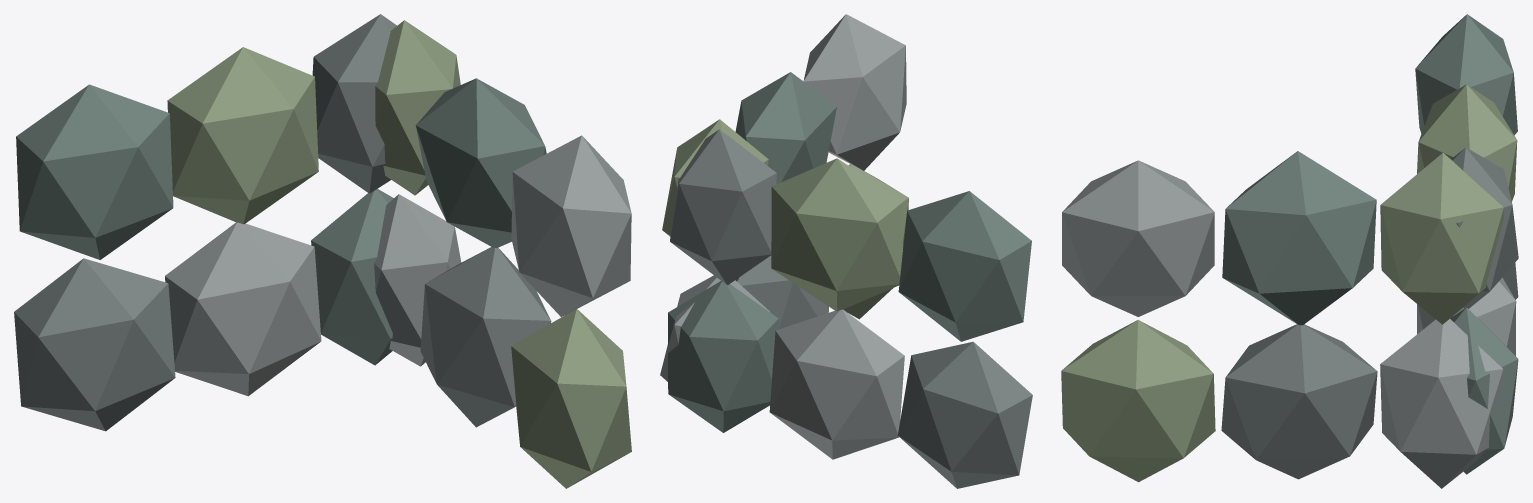
Rendered from wall_corner_inner_4x4x3.glb.
3 views of the same model, side by side, from view 1: azimuth 30°, elevation 25°; view 2: azimuth 150°, elevation 25°; view 3: azimuth 270°, elevation 25° (orthographic). The views are drawn at different scales.
Parts seen in each view (by area): view 1: cave_wall_inner_01, cave_wall_inner_07, cave_wall_inner_02, cave_wall_inner_08, cave_wall_inner_10, cave_wall_inner_04, cave_wall_inner_05, cave_wall_inner_11, cave_wall_inner_09, cave_wall_inner_03, cave_wall_inner_12, cave_wall_inner_06; view 2: cave_wall_inner_08, cave_wall_inner_02, cave_wall_inner_07, cave_wall_inner_01, cave_wall_inner_03, cave_wall_inner_09, cave_wall_inner_10, cave_wall_inner_11, cave_wall_inner_05, cave_wall_inner_12, cave_wall_inner_06, cave_wall_inner_04; view 3: cave_wall_inner_11, cave_wall_inner_04, cave_wall_inner_10, cave_wall_inner_05, cave_wall_inner_12, cave_wall_inner_06, cave_wall_inner_07, cave_wall_inner_08, cave_wall_inner_03, cave_wall_inner_09, cave_wall_inner_02.
Boxes of the visible parts, bbox=[...] form: cave_wall_inner_01: bbox=[14, 258, 175, 431]; cave_wall_inner_07: bbox=[16, 84, 173, 259]; cave_wall_inner_02: bbox=[165, 222, 321, 396]; cave_wall_inner_08: bbox=[167, 47, 318, 224]; cave_wall_inner_10: bbox=[511, 135, 631, 317]; cave_wall_inner_04: bbox=[511, 309, 631, 488]; cave_wall_inner_05: bbox=[420, 247, 551, 427]; cave_wall_inner_11: bbox=[415, 78, 546, 248]; cave_wall_inner_09: bbox=[312, 14, 396, 193]; cave_wall_inner_03: bbox=[311, 189, 393, 365]; cave_wall_inner_12: bbox=[375, 20, 460, 195]; cave_wall_inner_06: bbox=[374, 194, 461, 366]; cave_wall_inner_08: bbox=[771, 158, 902, 311]; cave_wall_inner_02: bbox=[769, 309, 904, 459]; cave_wall_inner_07: bbox=[898, 191, 1031, 341]; cave_wall_inner_01: bbox=[897, 341, 1032, 488]; cave_wall_inner_03: bbox=[668, 281, 778, 432]; cave_wall_inner_09: bbox=[670, 129, 776, 285]; cave_wall_inner_10: bbox=[803, 14, 906, 170]; cave_wall_inner_11: bbox=[735, 72, 836, 184]; cave_wall_inner_05: bbox=[735, 255, 828, 329]; cave_wall_inner_12: bbox=[662, 119, 768, 236]; cave_wall_inner_06: bbox=[660, 275, 770, 381]; cave_wall_inner_04: bbox=[843, 164, 908, 319]; cave_wall_inner_11: bbox=[1222, 151, 1376, 325]; cave_wall_inner_04: bbox=[1061, 320, 1215, 482]; cave_wall_inner_10: bbox=[1062, 160, 1214, 316]; cave_wall_inner_05: bbox=[1221, 324, 1377, 479]; cave_wall_inner_12: bbox=[1380, 153, 1503, 324]; cave_wall_inner_06: bbox=[1380, 319, 1503, 488]; cave_wall_inner_07: bbox=[1415, 14, 1517, 135]; cave_wall_inner_08: bbox=[1417, 84, 1517, 201]; cave_wall_inner_03: bbox=[1450, 307, 1518, 474]; cave_wall_inner_09: bbox=[1451, 147, 1518, 308]; cave_wall_inner_02: bbox=[1417, 277, 1516, 355].
Size of the model in its own units: 3.87 by 3.05 by 3.83.
